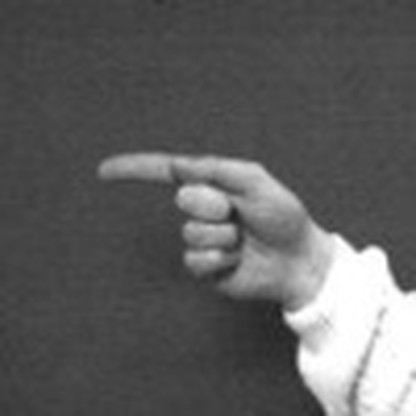g: (82, 137, 333, 310)
